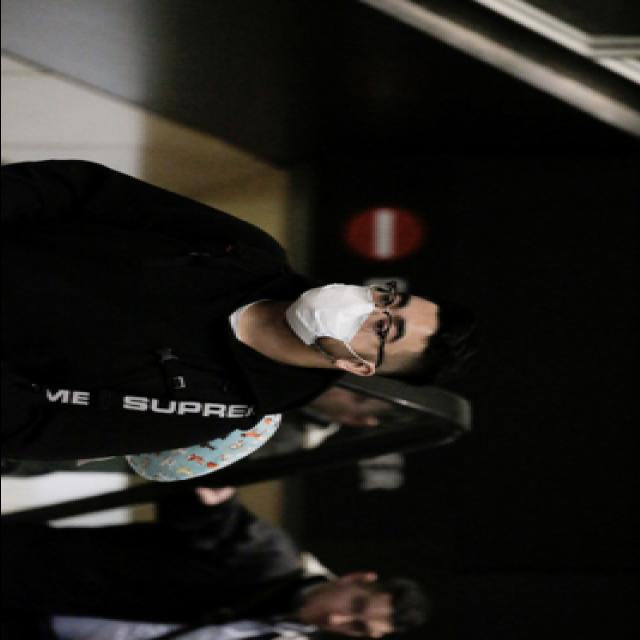mask: (285, 280, 417, 357)
no_mask: (297, 592, 383, 638)
